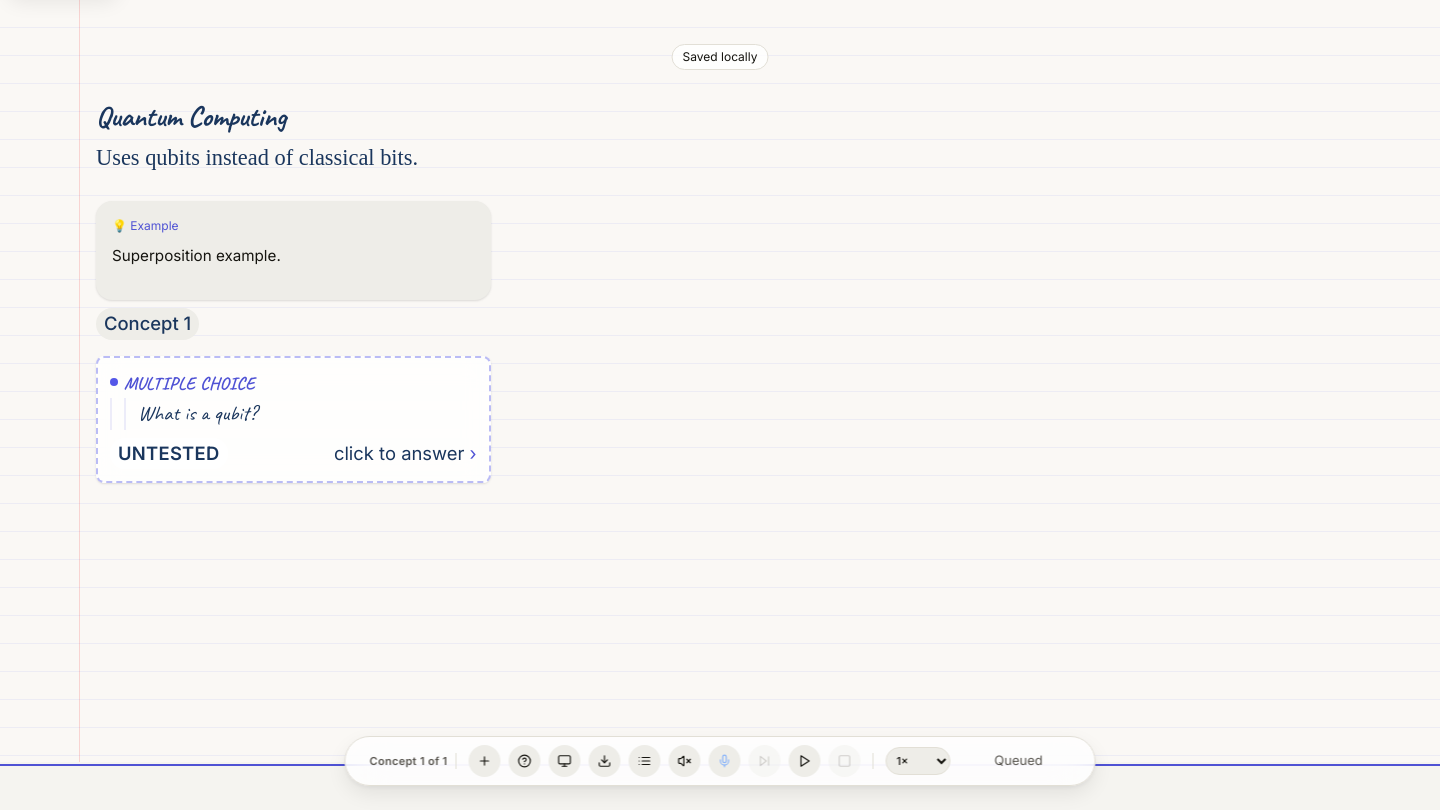
Test: CanvasPage › opens quiz modal when clicking a quiz node
Expected: the text "Quantum Computing" is shown, [96, 98, 286, 135]
Expected: the text "What is a qubit?" is shown, [124, 398, 477, 430]
Click the button with aria-label "Quiz:" at x=293, y=420, box [96, 356, 491, 483]
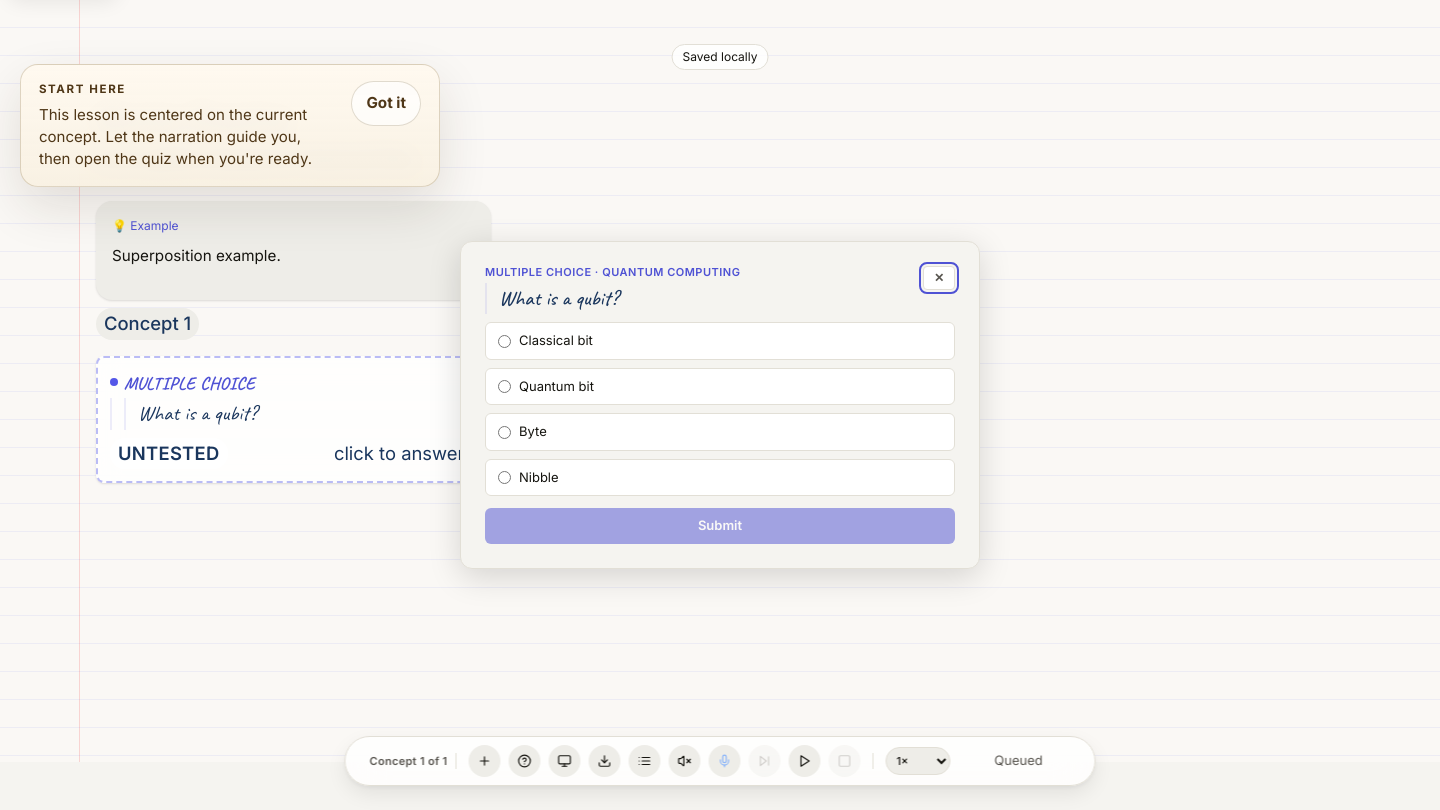
Expected: the text "Multiple Choice" is shown, [110, 372, 255, 394]
Now the text "Quantum bit" is shown, box [485, 368, 955, 405]
